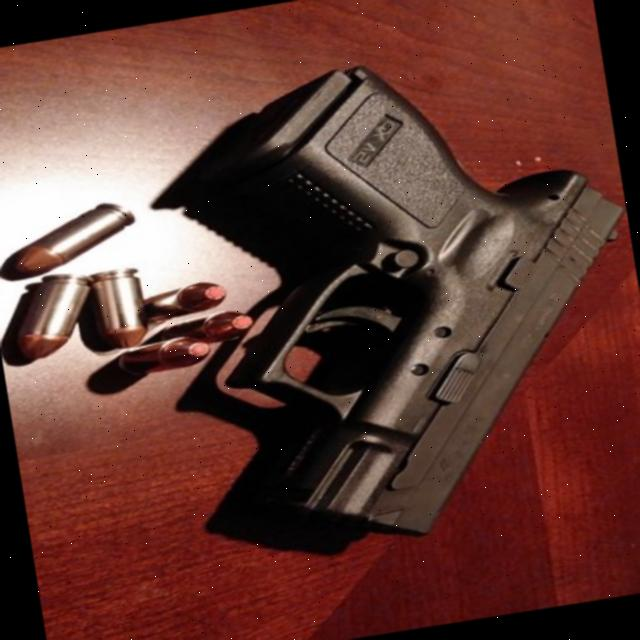Handgun: (135, 29, 640, 579)
